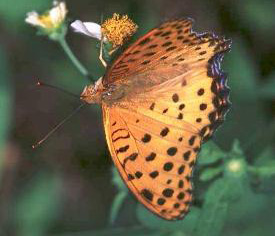Argyreus hyperbius: (30, 12, 239, 222)
butterfly: (28, 10, 237, 220)
